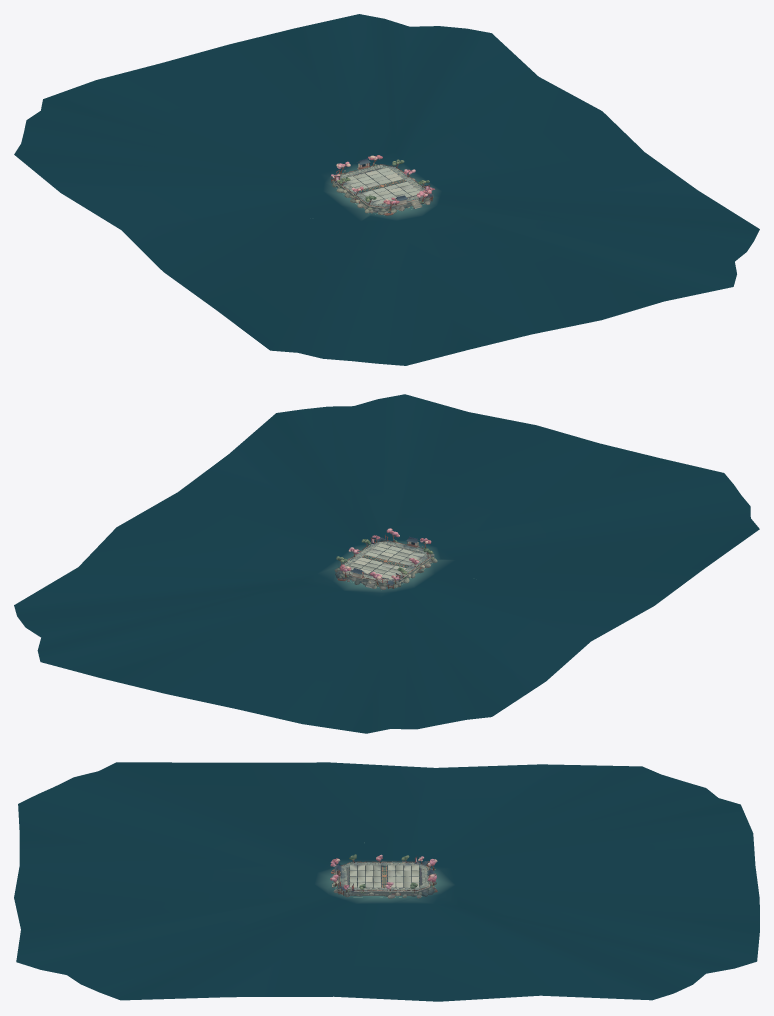
Rendered from arena_japan.glb.
3 renders of one model, top to bottom at view 1: azimuth 30°, elevation 25°; view 2: azimuth 150°, elevation 25°; view 3: azimuth 270°, elevation 25°, orthographic. The views are drawn at different scales.
Visible parts, largest first — view 1: Portrait arena with baked illumination; view 2: Portrait arena with baked illumination; view 3: Portrait arena with baked illumination.
Boxes of the visible parts, x1,y1,x2,y2 form: Portrait arena with baked illumination: [14, 14, 759, 365]; Portrait arena with baked illumination: [14, 394, 759, 733]; Portrait arena with baked illumination: [14, 762, 759, 1001].
Bounding box in the file's own units: 123 × 4.07 × 161.
